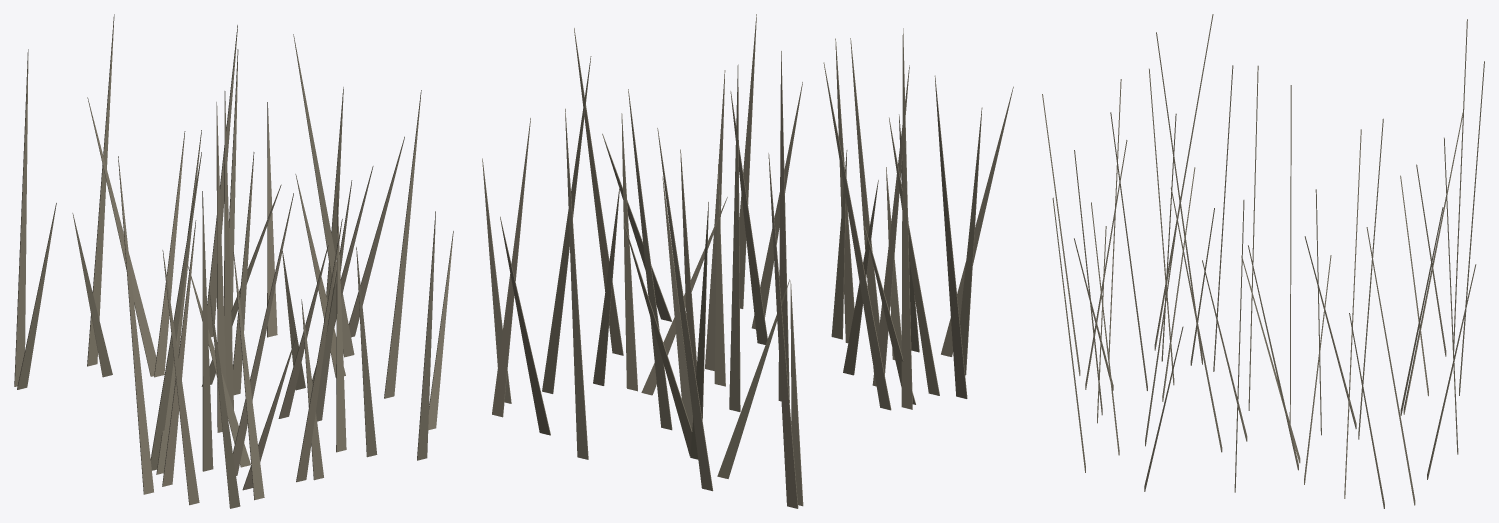
The model's file is reeds.glb.
3 renders of one model, left to right at view 1: azimuth 30°, elevation 25°; view 2: azimuth 150°, elevation 25°; view 3: azimuth 270°, elevation 25°, orthographic. The views are drawn at different scales.
Visible parts, largest first — view 1: Reeds; view 2: Reeds; view 3: Reeds.
Part boxes in pixels (bbox=[...]): Reeds: bbox=[14, 14, 453, 508]; Reeds: bbox=[482, 14, 1013, 508]; Reeds: bbox=[1042, 14, 1484, 508].
Bounding box in the file's own units: 1.77 × 1.6 × 1.84.
